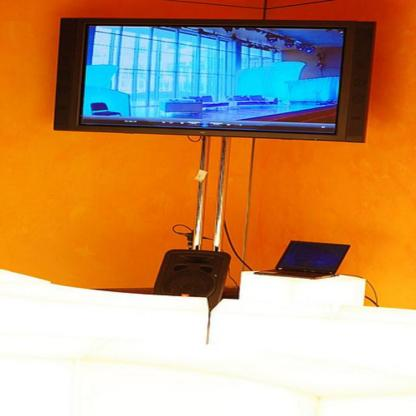board: (266, 236, 353, 282)
